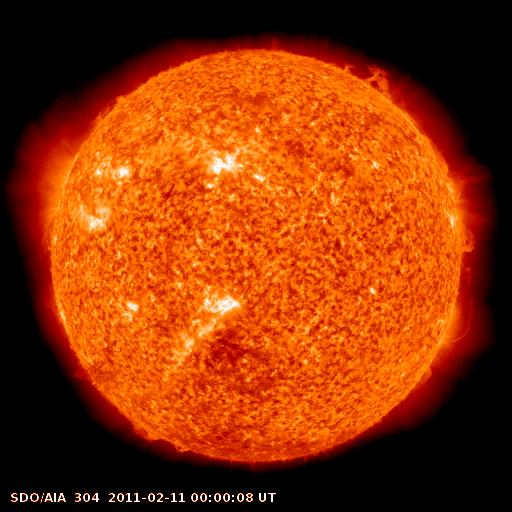prominence: (332, 44, 404, 106), (124, 410, 202, 460), (79, 81, 138, 133), (441, 211, 489, 261), (405, 352, 443, 396)
